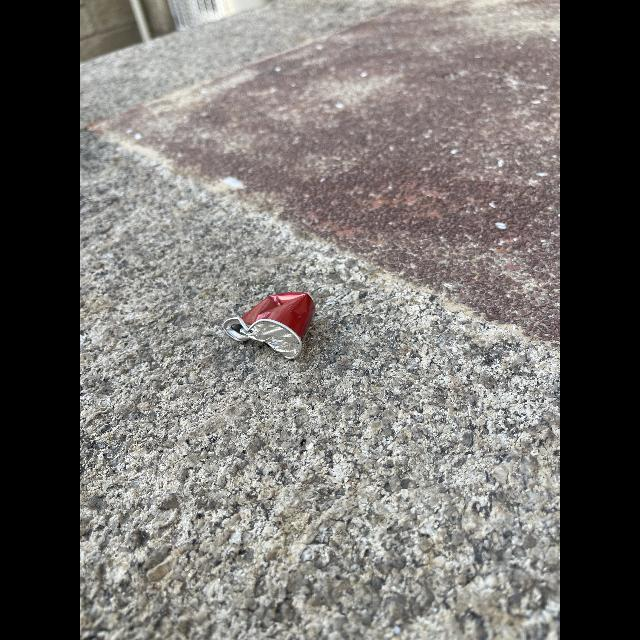damaged_capsule: (220, 288, 326, 364)
